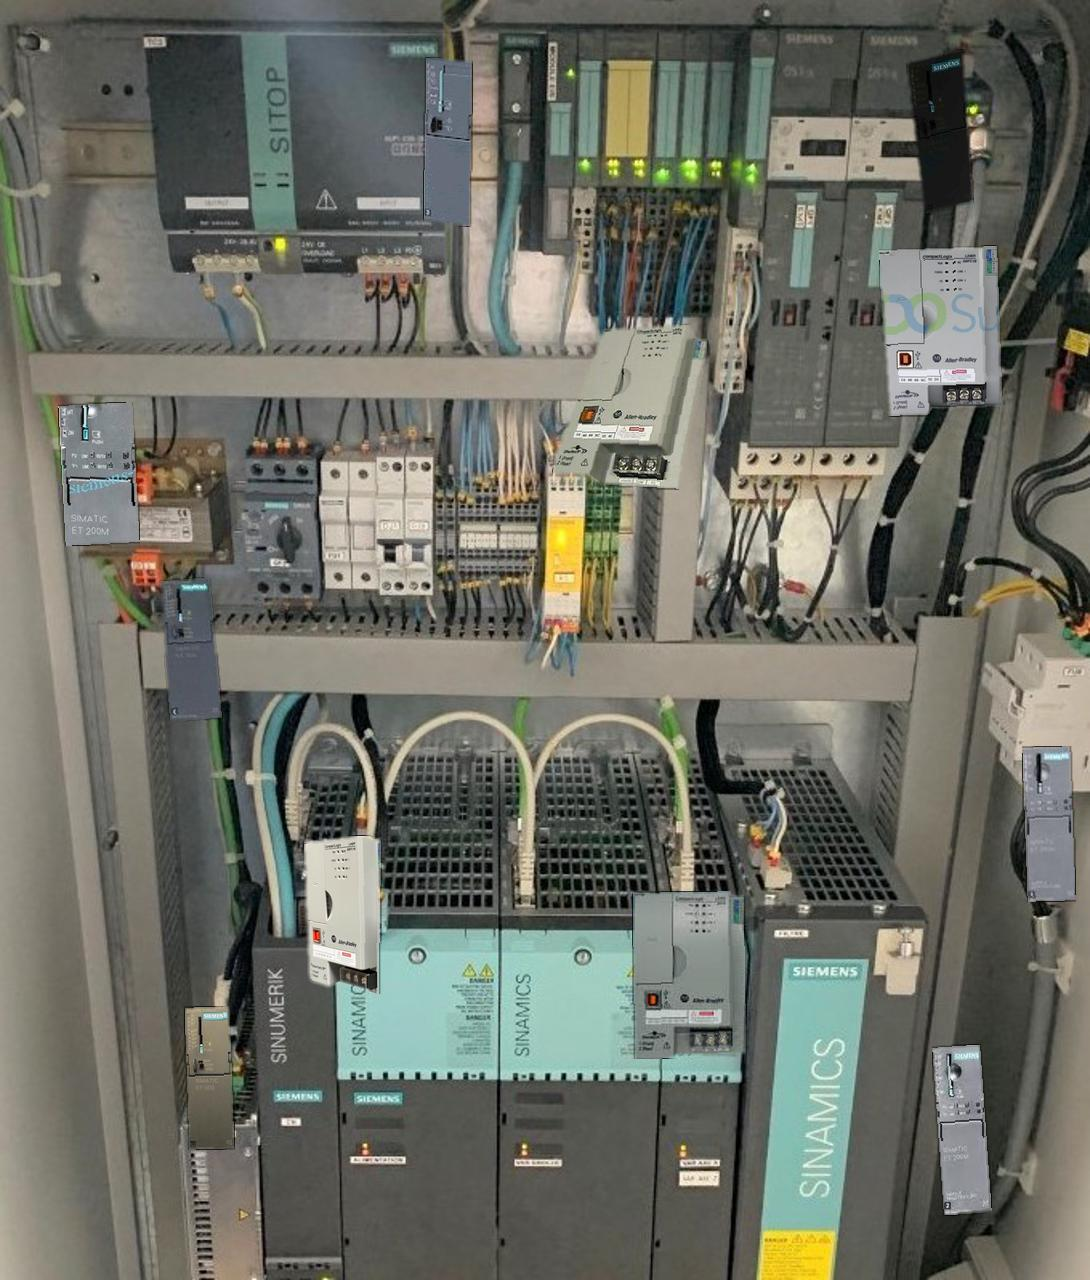AllenBradley: (553, 325, 706, 488), (879, 246, 1000, 415), (633, 891, 744, 1058), (304, 836, 378, 994)
Siemens: (907, 50, 972, 213), (161, 578, 221, 719), (424, 58, 471, 225), (185, 1006, 232, 1149)
